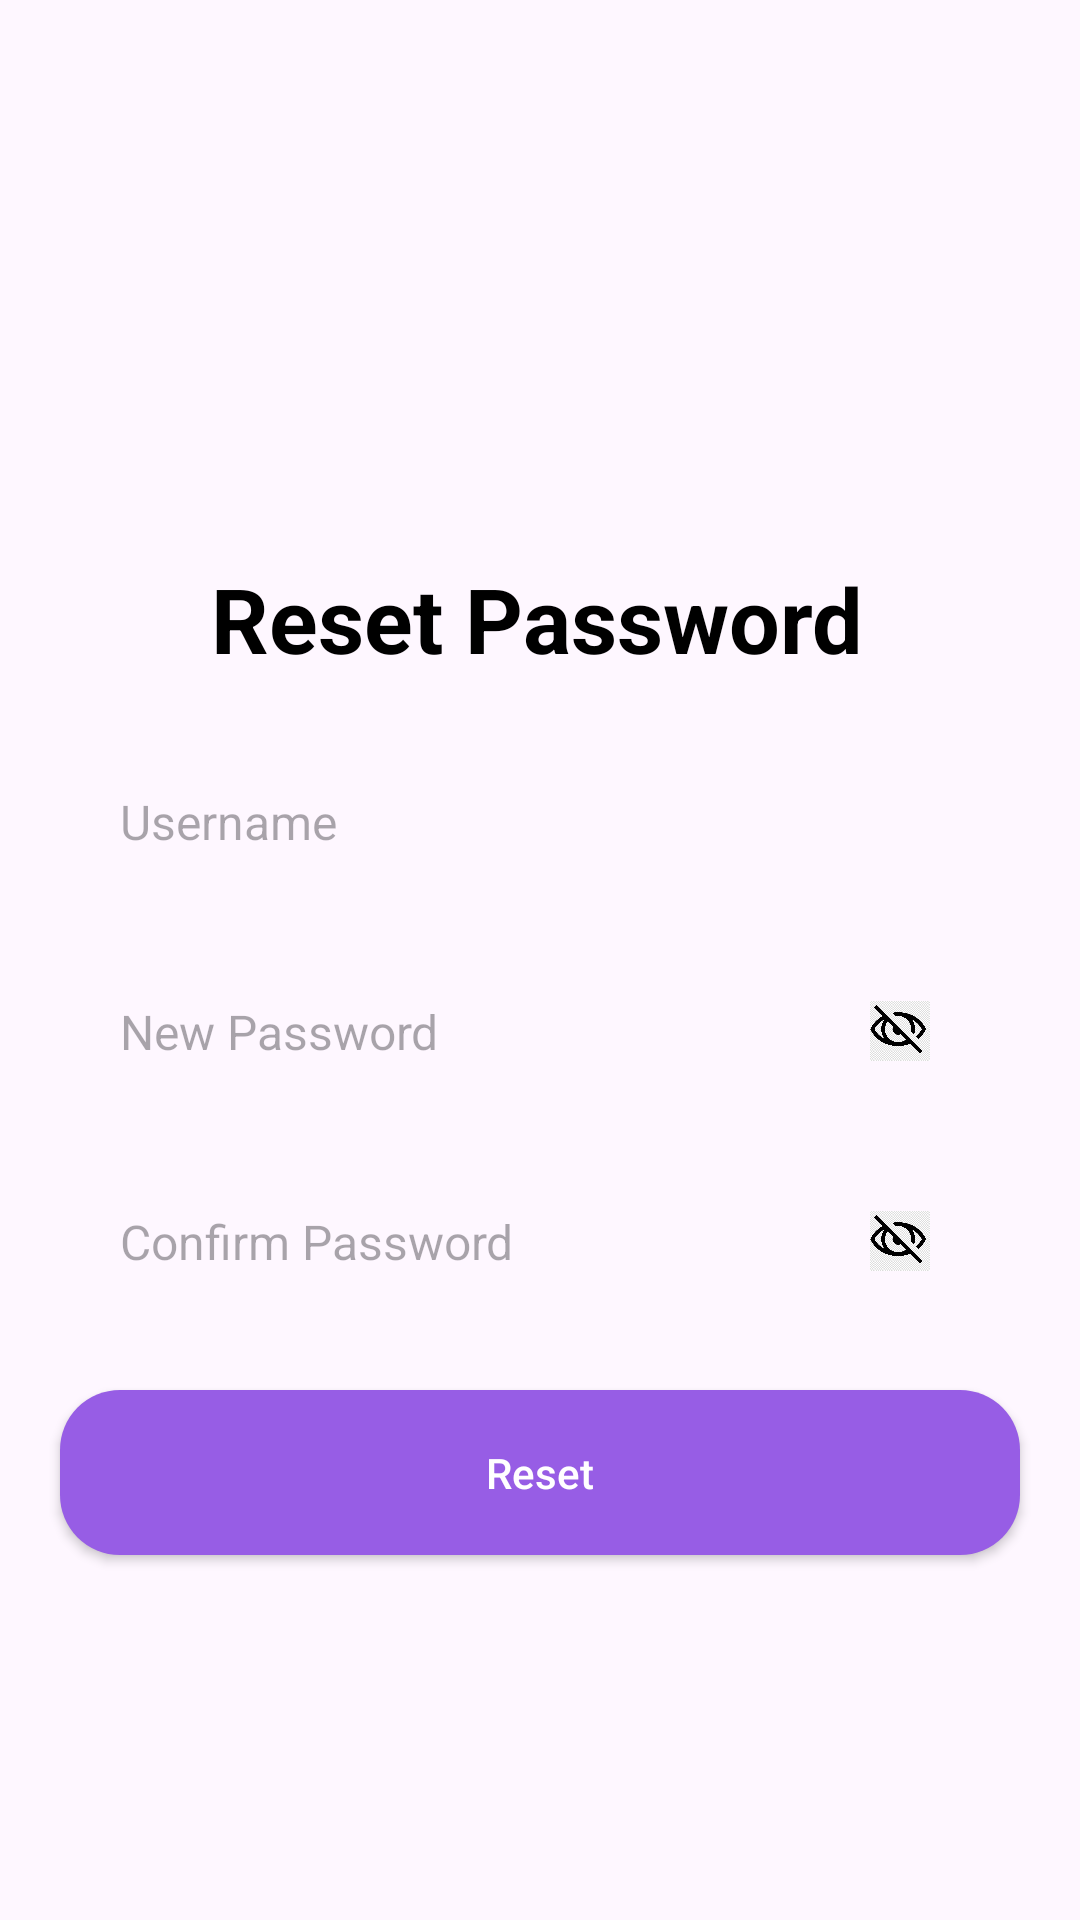

Where icons sit on this 1080×1920 app screen, as bbox=(x1, y1, x2, y2):
hide passwd: bbox=(870, 1001, 930, 1061), bbox=(870, 1211, 930, 1271)
